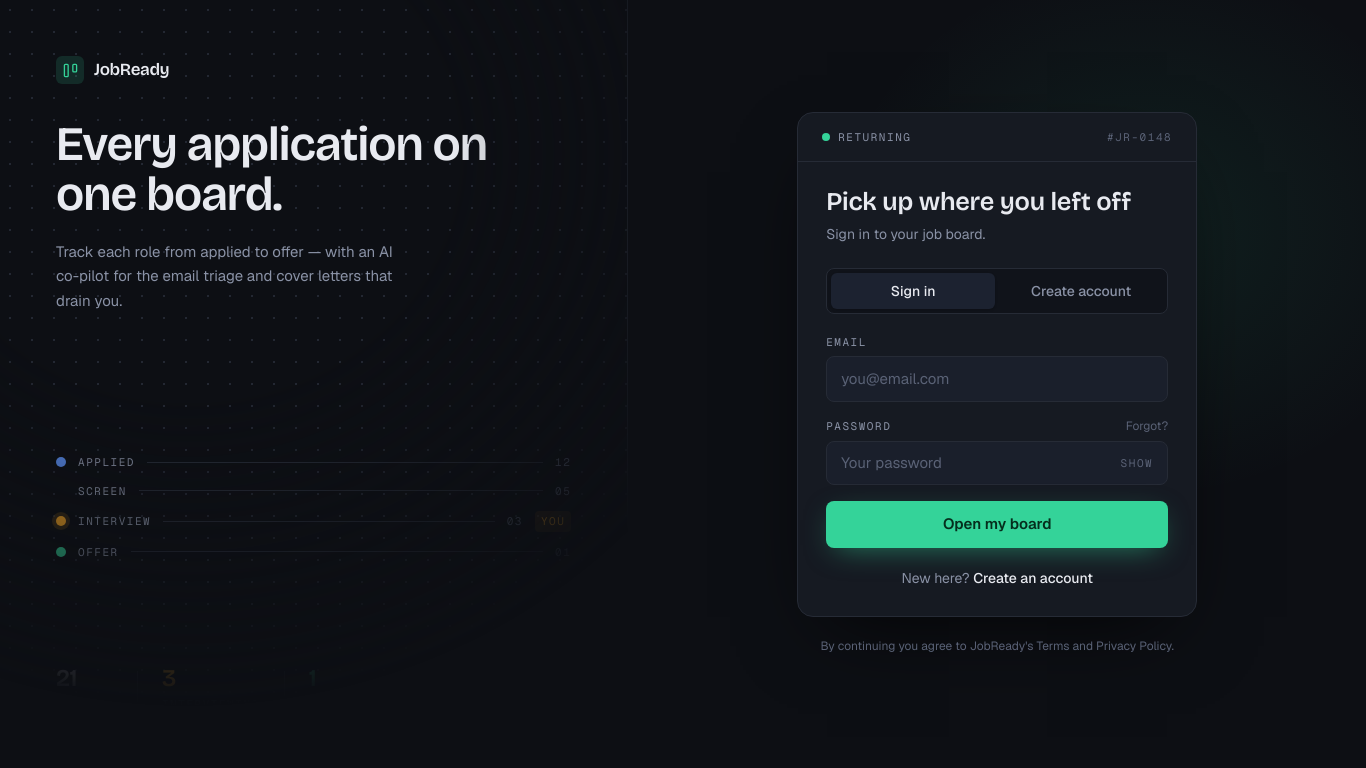
Test case: AuthPage › signs a user in and shows the success state
Type "a@b.com" into the field labelled "Email" at x=997, y=380, box top-left (841, 368), bottom-right (1153, 391)
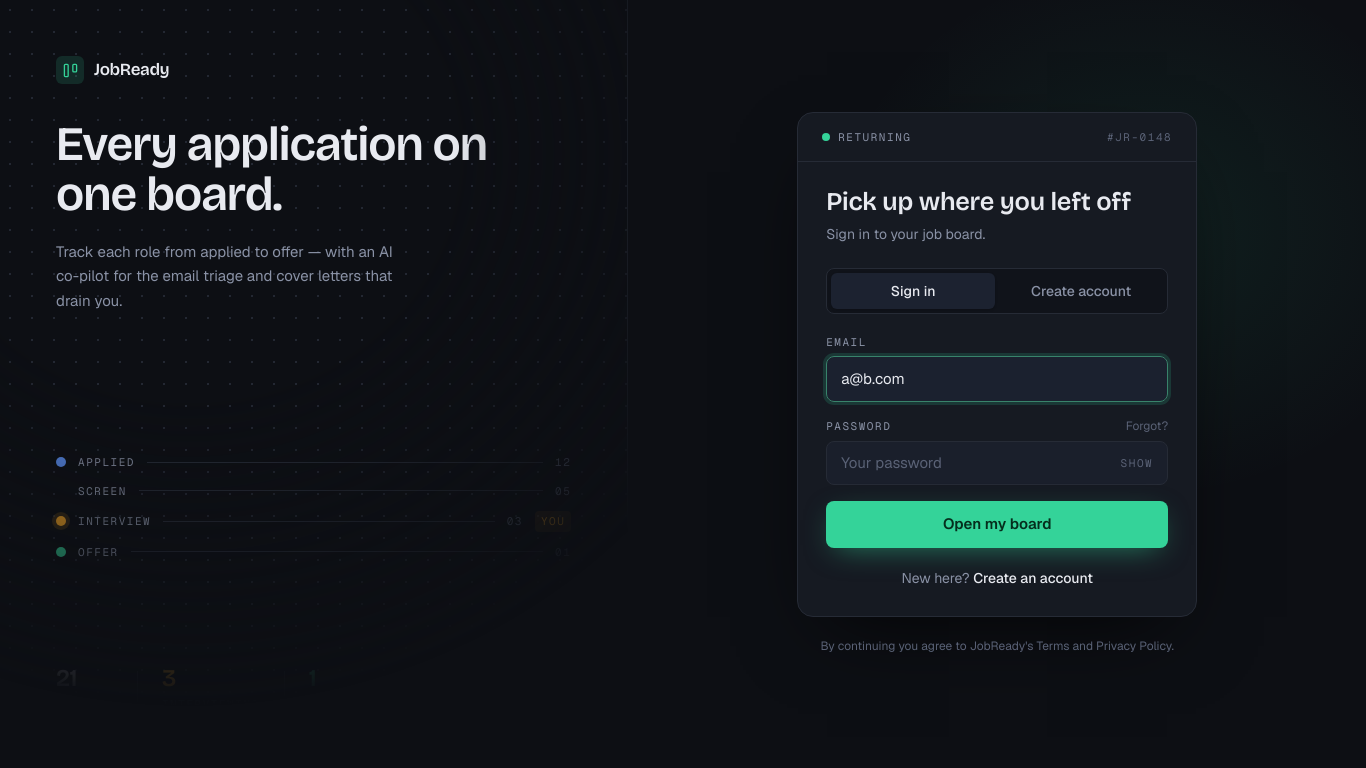
Type "password1" into the password field labelled "Password" at x=977, y=463, box top-left (841, 452), bottom-right (1113, 474)
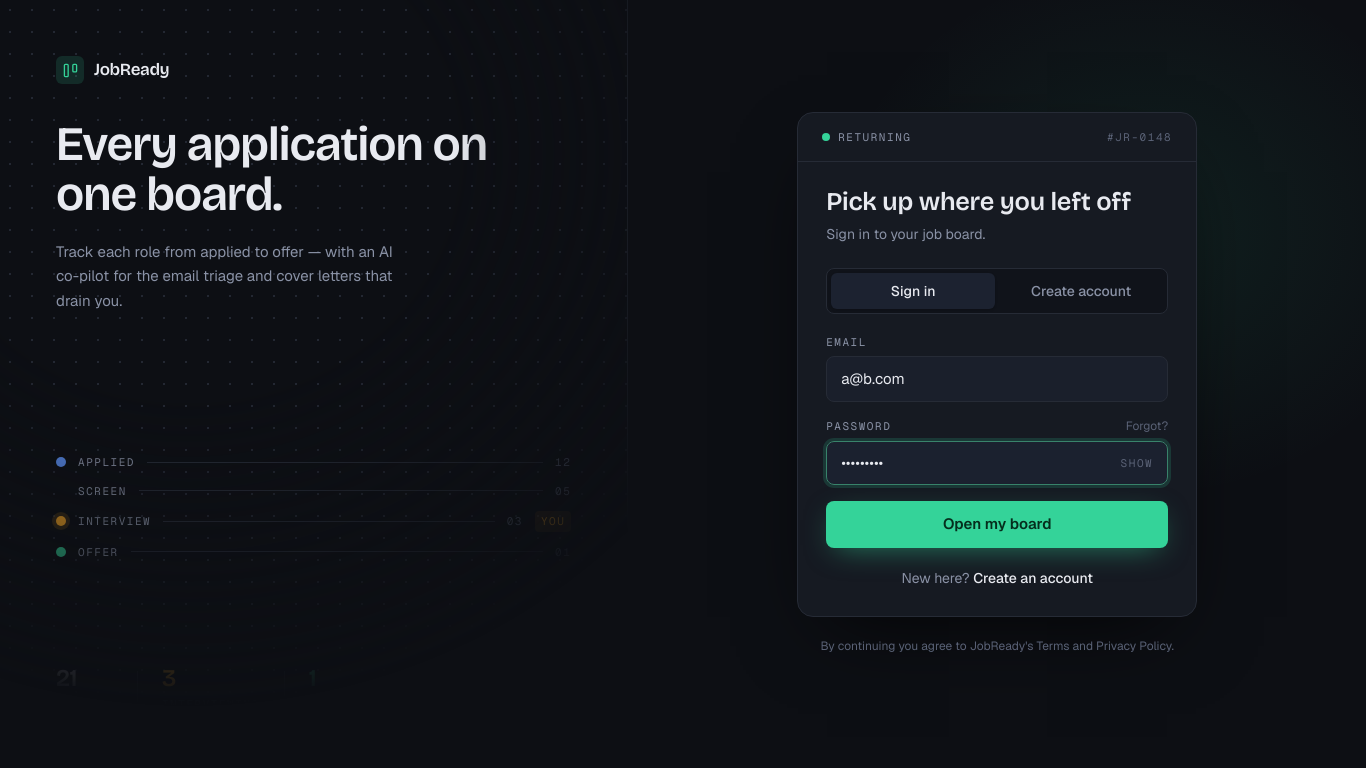
Click the button "Open my board" at x=997, y=525, box top-left (826, 502), bottom-right (1168, 548)
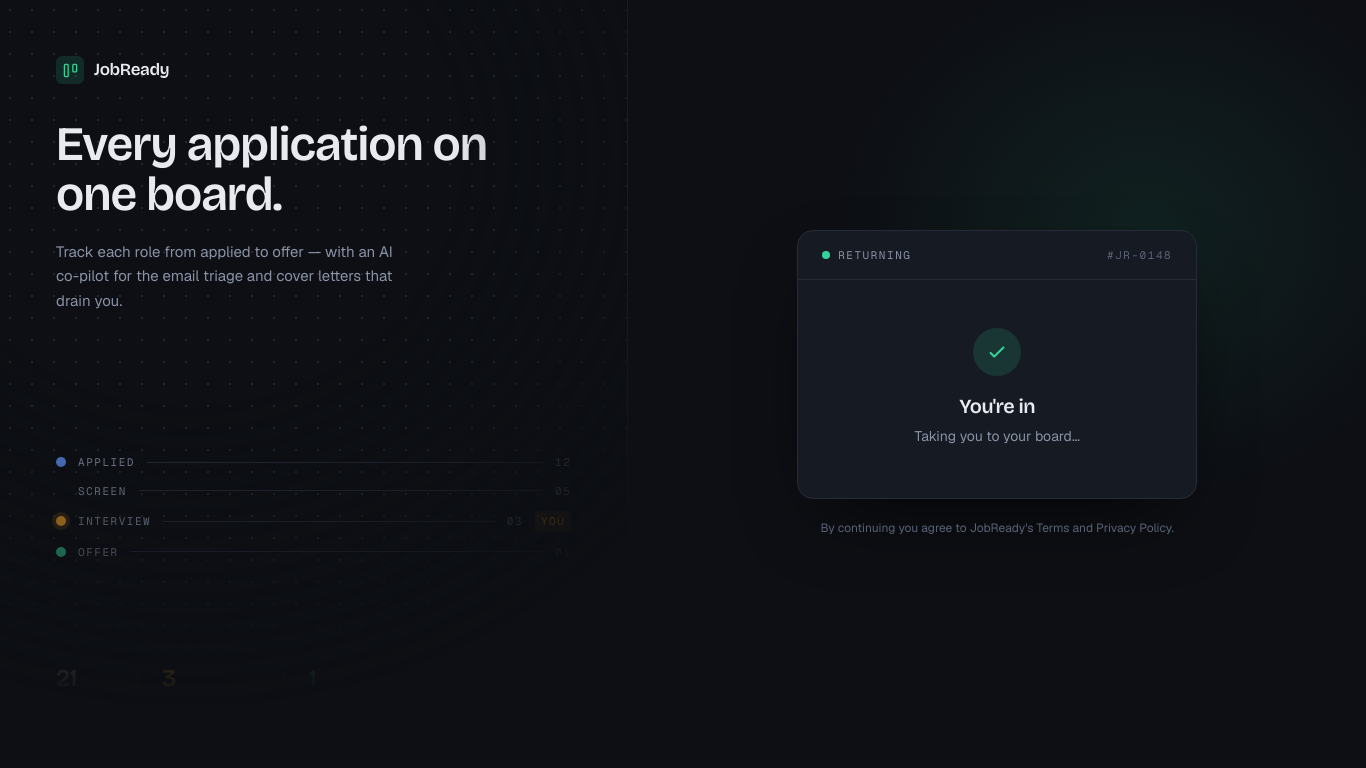
Check: the heading "You're in" is shown, box top-left (959, 394), bottom-right (1035, 418)
